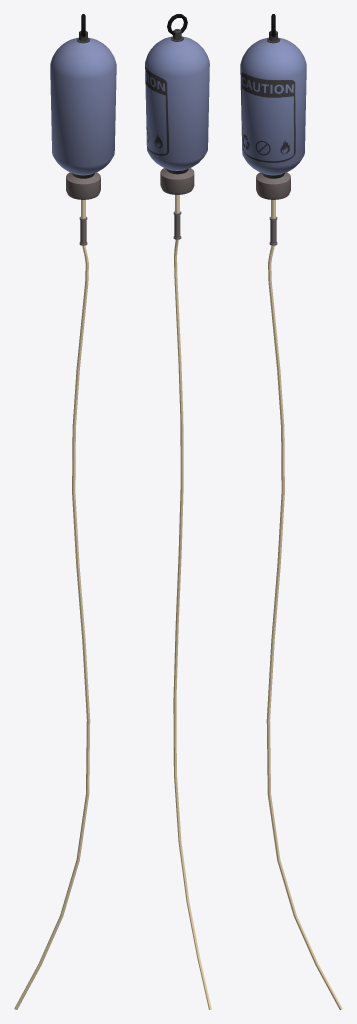
Rendered from serum.fbx.
The picture shows the model from 3 angles, left to right: view 1: azimuth 90°, elevation 25°; view 2: azimuth 210°, elevation 25°; view 3: azimuth 270°, elevation 25°; orthographic projection. The views are drawn at different scales.
Visible parts, largest first — view 1: Serum-material; view 2: Serum-material; view 3: Serum-material.
Boxes of the visible parts, left/top/right/bottom form: Serum-material: left=14, top=14, right=116, bottom=1009; Serum-material: left=145, top=14, right=211, bottom=1009; Serum-material: left=240, top=14, right=342, bottom=1009.
Bounding box in the file's own units: 1.43 × 23.52 × 2.2.
1 material, 1 textured.
